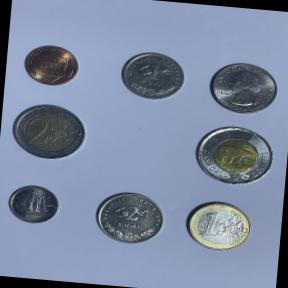coin: (186, 118, 279, 192), (6, 96, 92, 166), (202, 57, 284, 120), (91, 186, 169, 251), (182, 196, 257, 256), (17, 39, 86, 90), (3, 178, 66, 228)
